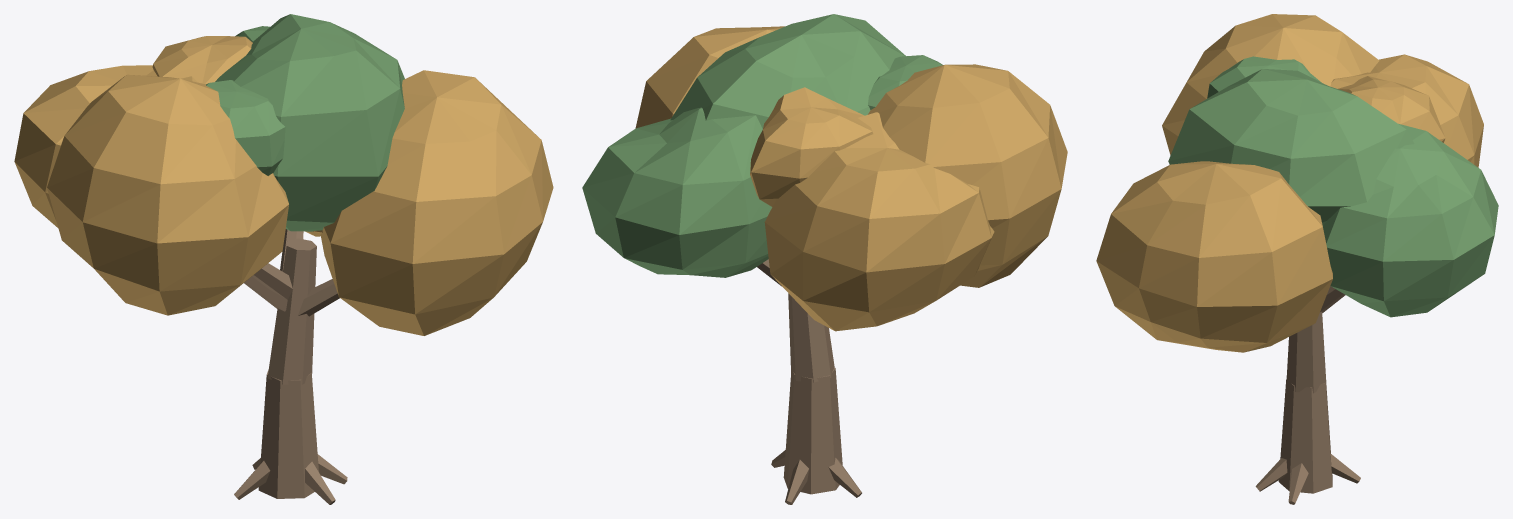
File: tree_round_autumn.glb
3 views of the same model, side by side, from view 1: azimuth 30°, elevation 25°; view 2: azimuth 150°, elevation 25°; view 3: azimuth 270°, elevation 25° (orthographic). The views are drawn at different scales.
Visible parts, largest first — view 1: tree_round_autumn; view 2: tree_round_autumn; view 3: tree_round_autumn.
Part boxes in pixels (x1,y1,x2,y2): tree_round_autumn: (14,14,553,504); tree_round_autumn: (582,14,1067,504); tree_round_autumn: (1096,14,1498,504).
Size of what is drawn, in the model's own units: 4.75 by 4.79 by 4.25.
